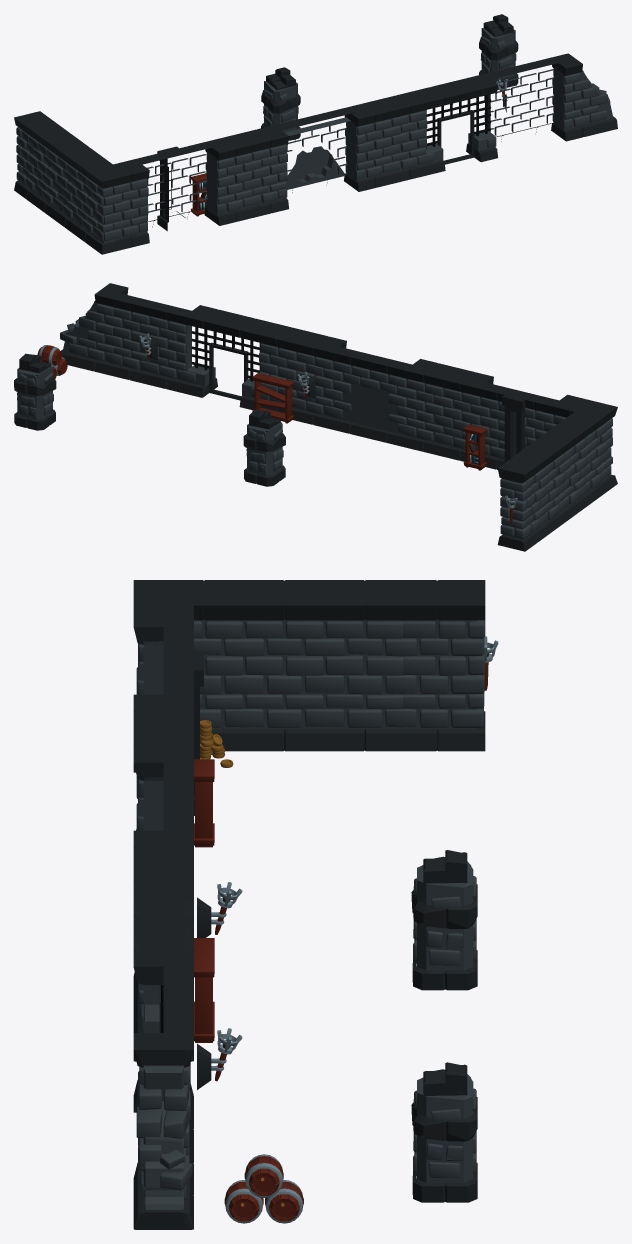
Rendered from scenario2.glb.
The picture shows the model from 3 angles, top to bottom: view 1: azimuth 30°, elevation 25°; view 2: azimuth 150°, elevation 25°; view 3: azimuth 270°, elevation 25°; orthographic projection. The views are drawn at different scales.
Visible parts, largest first — view 1: wall (×3), wallCorner, wall_gateDoor, pillar_broken (×2), wall_end_broken, wallSingle_broken, wallSingle_decorationB, wall_end, wallSingle, bookcaseFilled; view 2: wall (×3), wallSingle_broken, wallSingle, pillar_broken (×2), wall_gateDoor, wallSingle_decorationB, wall_end, wallCorner, wall_end_broken, bookcaseWide_broken, bookcaseFilled, barrel; view 3: wall (×3), pillar_broken (×2), wall_end, wallCorner, wall_end_broken, wall_gateDoor, barrel (×3), wallSingle_decorationB, wallSingle, torchWall (×2), wallSingle_broken, bookcaseWide_broken (+1 smaller).
Boxes of the visible parts, bbox=[...] form: wall (×3): bbox=[34, 91, 428, 233]; wallCorner: bbox=[74, 155, 149, 254]; wall_gateDoor: bbox=[414, 74, 497, 174]; pillar_broken (×2): bbox=[261, 14, 518, 140]; wall_end_broken: bbox=[551, 53, 617, 141]; wallSingle_broken: bbox=[274, 108, 350, 192]; wallSingle_decorationB: bbox=[135, 142, 211, 231]; wall_end: bbox=[14, 111, 59, 204]; wallSingle: bbox=[483, 57, 559, 141]; bookcaseFilled: bbox=[190, 173, 206, 216]; wall (×3): bbox=[257, 323, 588, 535]; wallSingle_broken: bbox=[331, 346, 411, 447]; wallSingle: bbox=[111, 293, 191, 393]; pillar_broken (×2): bbox=[14, 353, 285, 486]; wall_gateDoor: bbox=[184, 305, 272, 410]; wallSingle_decorationB: bbox=[478, 382, 559, 469]; wall_end: bbox=[497, 452, 547, 551]; wallCorner: bbox=[551, 394, 617, 504]; wall_end_broken: bbox=[60, 283, 128, 375]; bookcaseWide_broken: bbox=[252, 373, 294, 423]; bookcaseFilled: bbox=[463, 424, 487, 470]; barrel: bbox=[37, 345, 62, 366]; wall (×3): bbox=[133, 580, 404, 1032]; pillar_broken (×2): bbox=[411, 850, 477, 1202]; wall_end: bbox=[397, 580, 485, 751]; wallCorner: bbox=[133, 580, 244, 772]; wall_end_broken: bbox=[133, 1033, 193, 1229]; wall_gateDoor: bbox=[133, 898, 193, 1112]; barrel (×3): bbox=[224, 1154, 303, 1223]; wallSingle_decorationB: bbox=[163, 627, 203, 815]; wallSingle: bbox=[163, 966, 193, 1178]; torchWall (×2): bbox=[197, 882, 242, 1089]; wallSingle_broken: bbox=[163, 762, 193, 830]; bookcaseWide_broken: bbox=[194, 938, 214, 1042].
Size of the model in its own units: 29.7 by 4.01 by 9.07.
